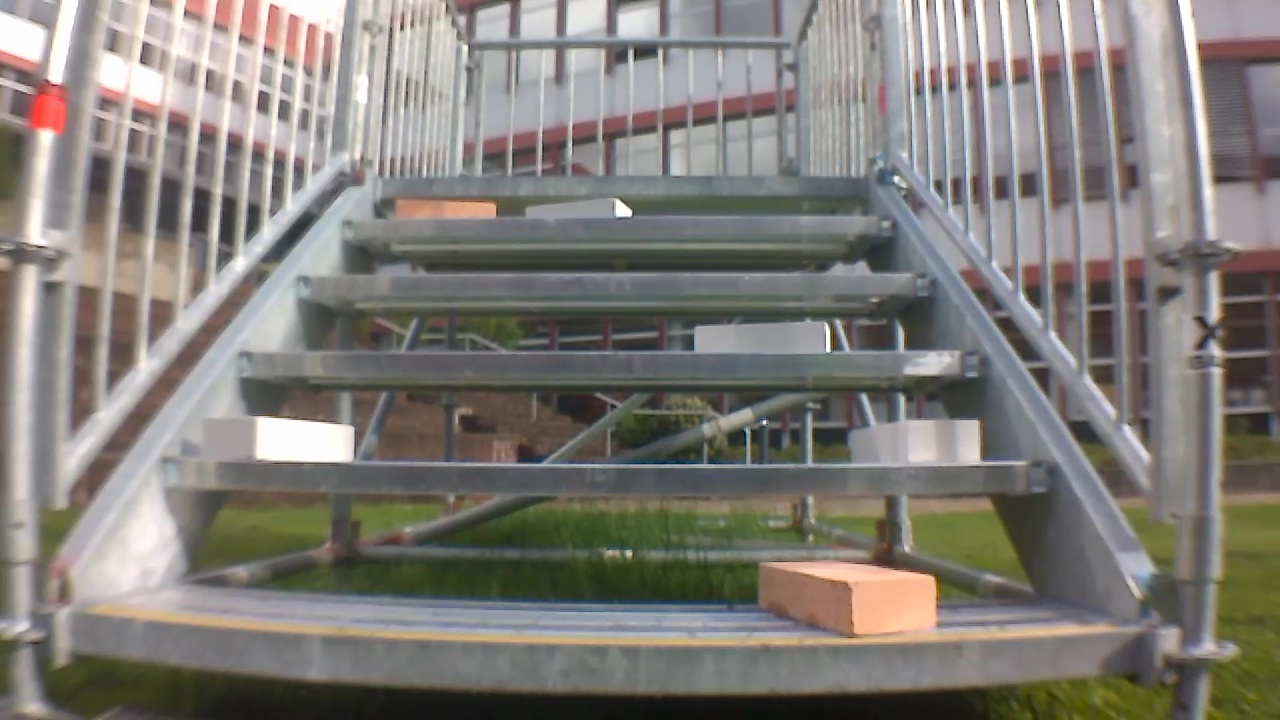brick: (759, 560, 936, 636), (203, 418, 353, 460), (850, 419, 979, 463), (694, 321, 828, 353), (527, 198, 633, 218), (397, 201, 495, 217)
edge: (70, 613, 1138, 693), (161, 457, 1047, 496), (241, 351, 983, 376), (294, 273, 931, 295), (342, 216, 895, 236), (374, 175, 865, 193)
stairs: (4, 2, 1236, 717)
steps: (57, 171, 1156, 708)
